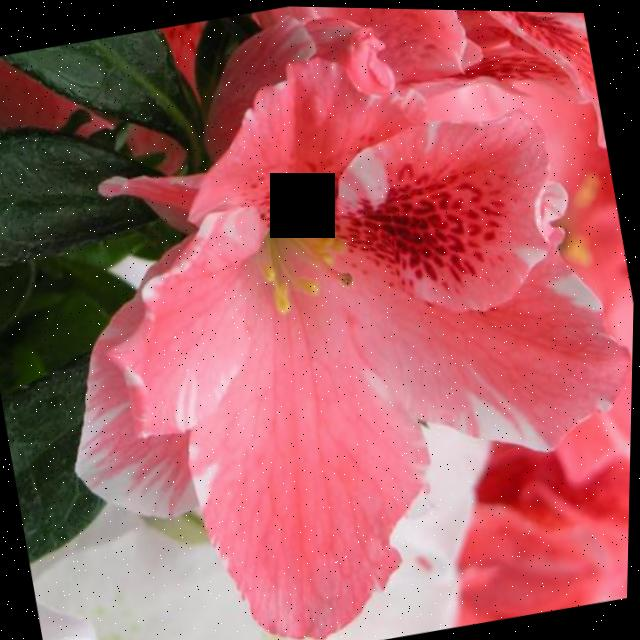azalea: (40, 1, 640, 640)
